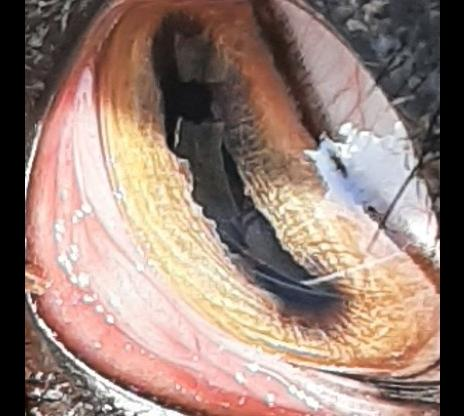eye_membrane: (30, 64, 359, 416)
